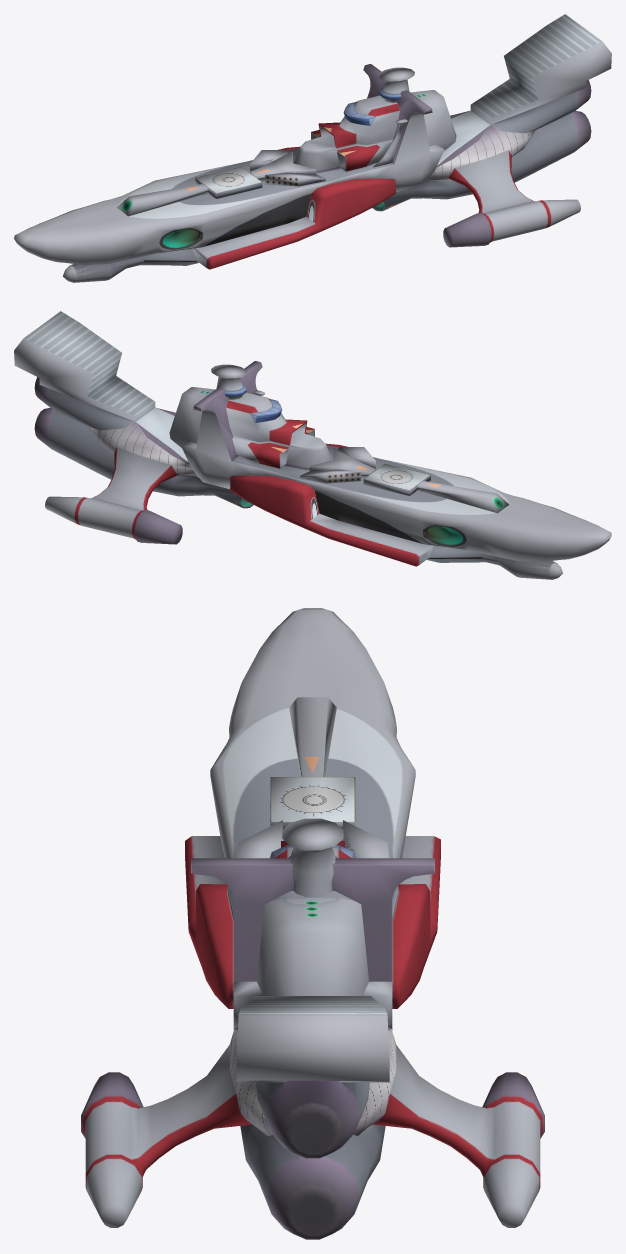
The model's file is Main_starship.fbx.
The picture shows the model from 3 angles, top to bottom: view 1: azimuth 30°, elevation 25°; view 2: azimuth 150°, elevation 25°; view 3: azimuth 270°, elevation 25°; orthographic projection. The views are drawn at different scales.
Visible parts, largest first — view 1: Main_starship; view 2: Main_starship; view 3: Main_starship.
Part boxes in pixels (x1=…): Main_starship: x1=14, y1=14, x2=611, y2=282; Main_starship: x1=14, y1=311, x2=611, y2=579; Main_starship: x1=81, y1=608, x2=544, y2=1239.
Size of the model in its own units: 12951 by 4514 by 3078.
